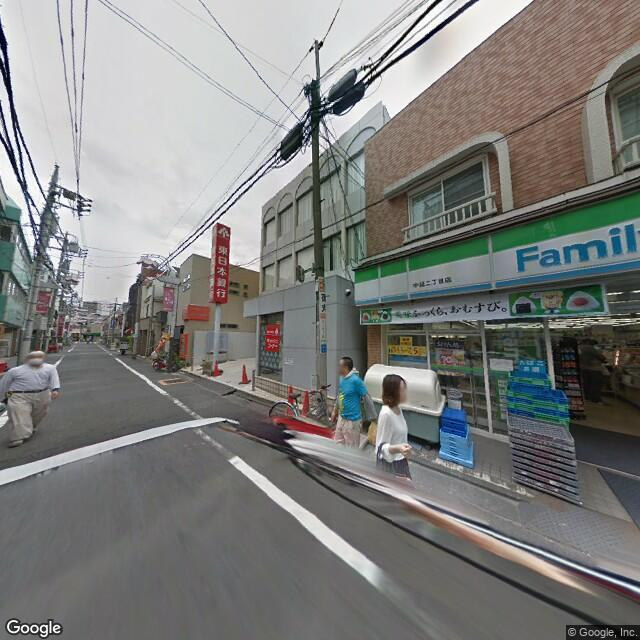family_mart: (348, 191, 637, 307)
